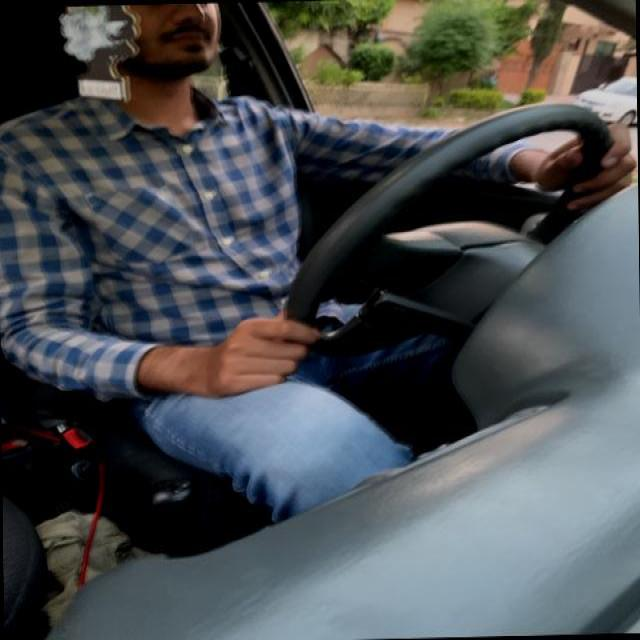no-seatbelt: (4, 4, 319, 502)
